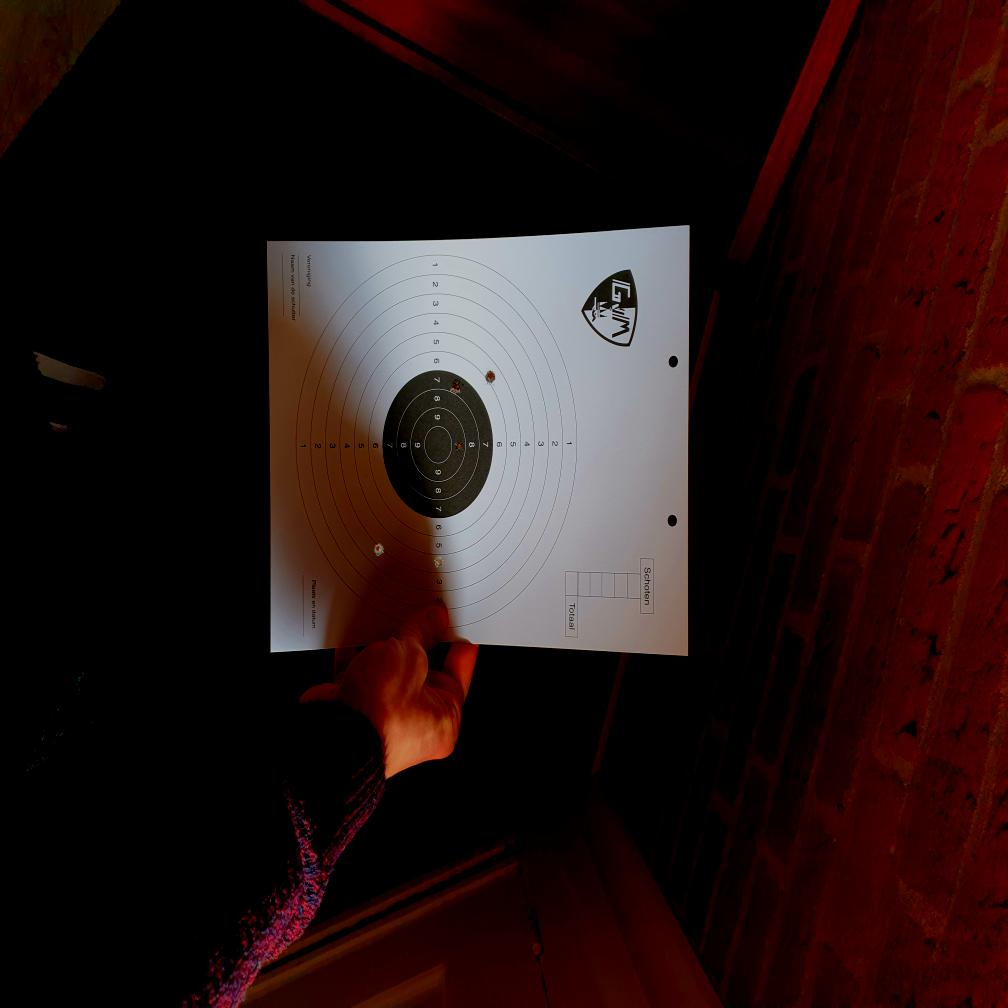4: (374, 543, 384, 556), (434, 556, 442, 568)
5: (485, 370, 495, 384)
7: (450, 380, 463, 394)
9: (455, 440, 464, 452)
Target: (296, 253, 579, 627)
black_contour: (382, 372, 493, 518)
